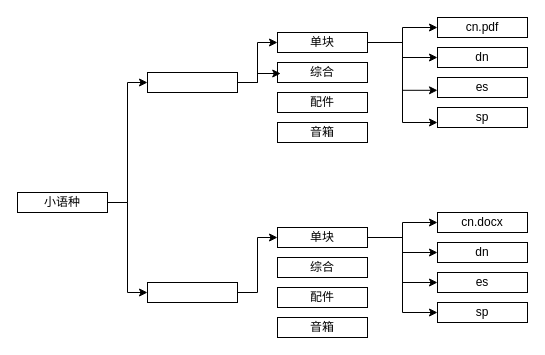
Some shapes in this 545 by 355 pixel diagram are drawn without their labels. The centre of each missing label's shape, as x and y in pixels:
"pdf" goes at (x=192, y=82).
"word" goes at (x=192, y=292).
